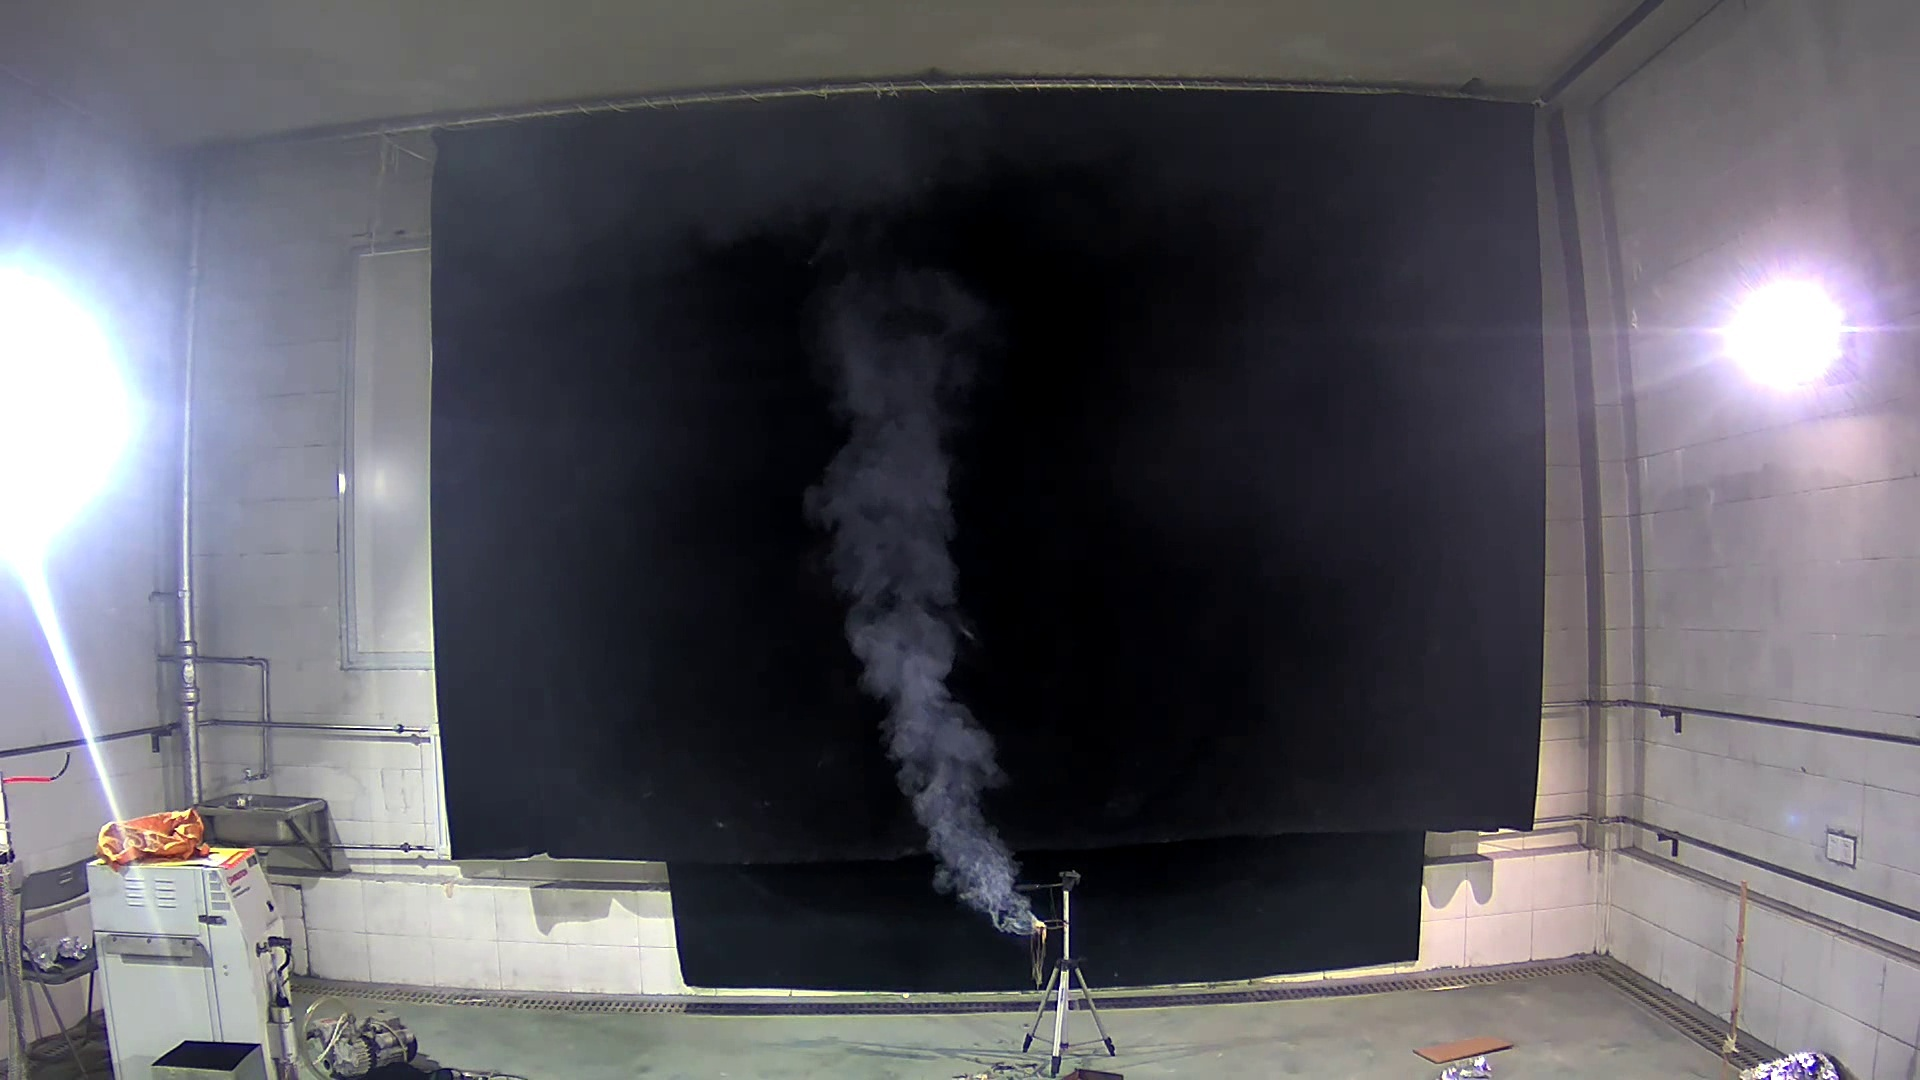smoke: (777, 266, 1040, 903)
